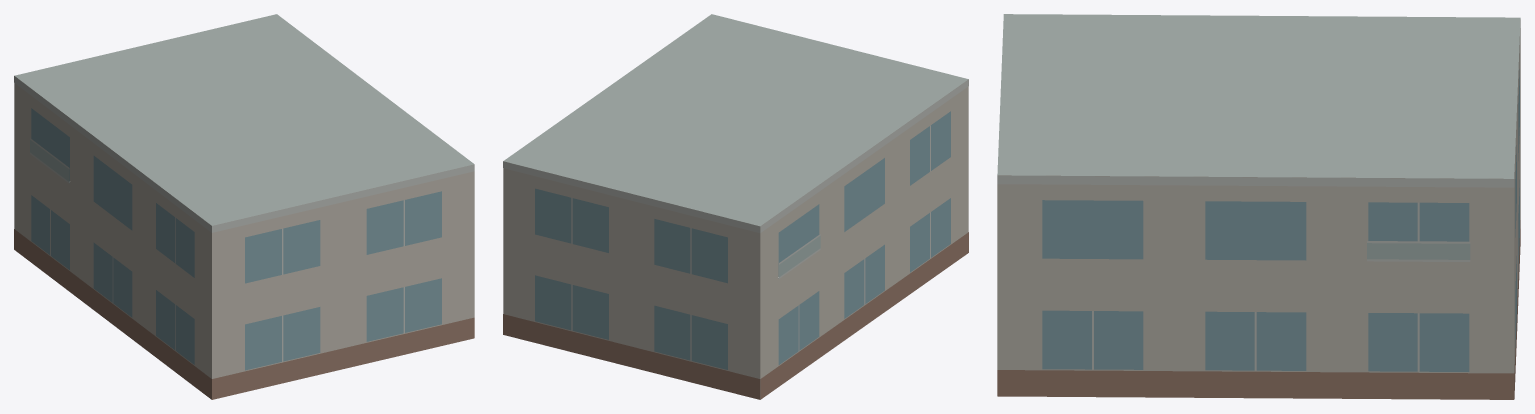
The model's file is survey-upis-32858899.glb.
3 views of the same model, side by side, from view 1: azimuth 30°, elevation 25°; view 2: azimuth 150°, elevation 25°; view 3: azimuth 270°, elevation 25° (orthographic). The views are drawn at different scales.
Visible parts, largest first — view 1: survey-upis-32858899.tmp; view 2: survey-upis-32858899.tmp; view 3: survey-upis-32858899.tmp.
Part boxes in pixels (bbox=[...]): survey-upis-32858899.tmp: bbox=[14, 14, 474, 399]; survey-upis-32858899.tmp: bbox=[503, 14, 968, 399]; survey-upis-32858899.tmp: bbox=[997, 14, 1520, 399].
Size of the model in its own units: 9.78 by 6.1 by 13.1.
